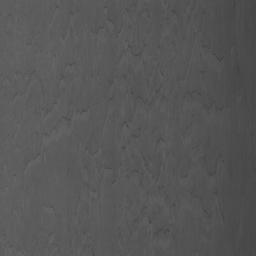Silk spot: (0, 0, 240, 256)
